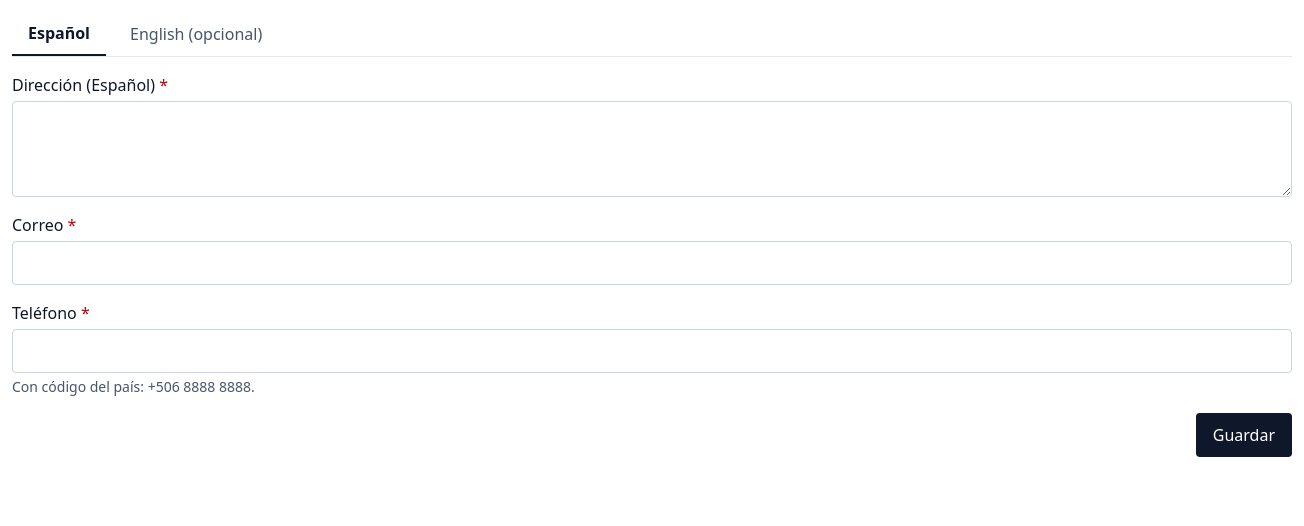
Test: ContactForm · contacto (FR-007) › muestra los errores de correo y teléfono junto al campo y no guarda (FR-015)
Step 1. Type "San José" into the text box labelled "Dirección (Español) *" → (652, 149), box x1=12 y1=101 x2=1292 y2=197
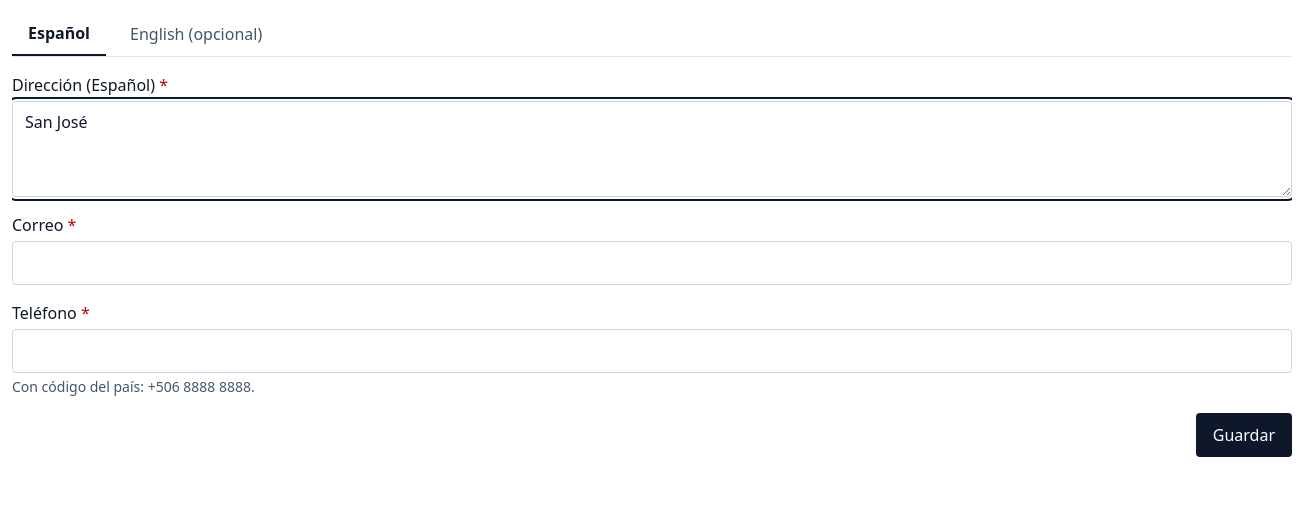
Step 2. Type "no-es-correo" into the field labelled "Correo *" → (652, 263), box x1=12 y1=241 x2=1292 y2=285
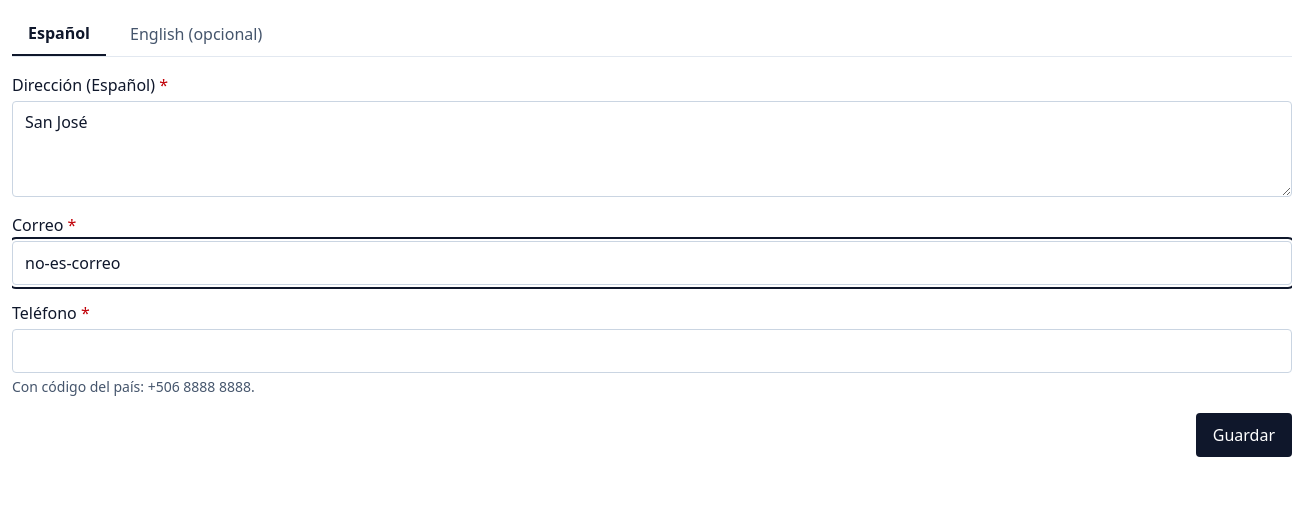
Step 3. Type "12" into the field labelled "Teléfono *" → (652, 351), box x1=12 y1=329 x2=1292 y2=373
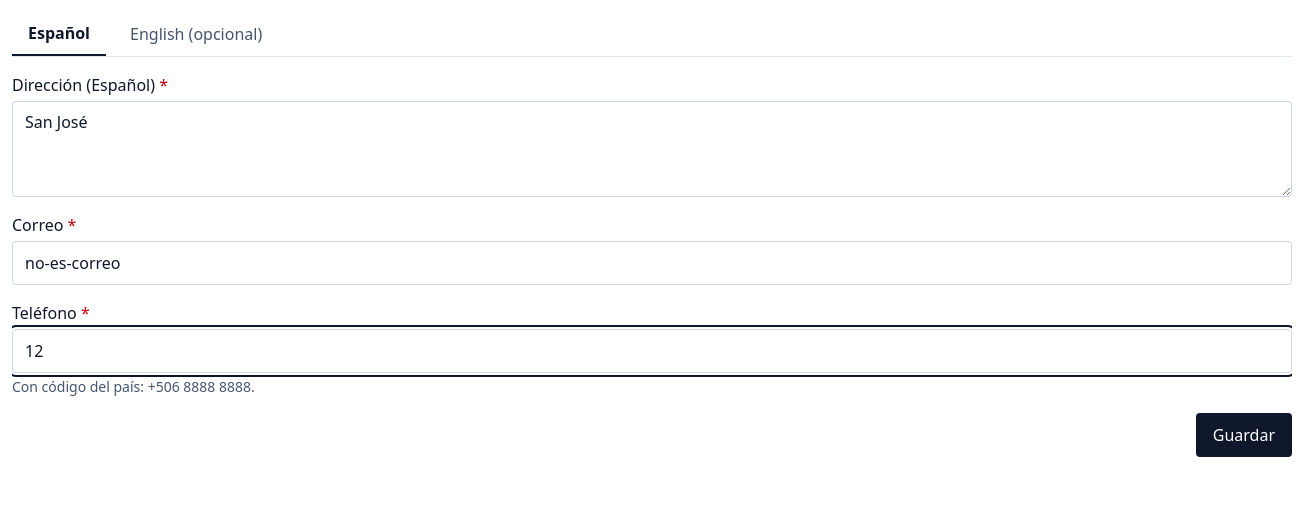
Step 4. Click the button "Guardar" → (1244, 435), box x1=1196 y1=413 x2=1292 y2=457
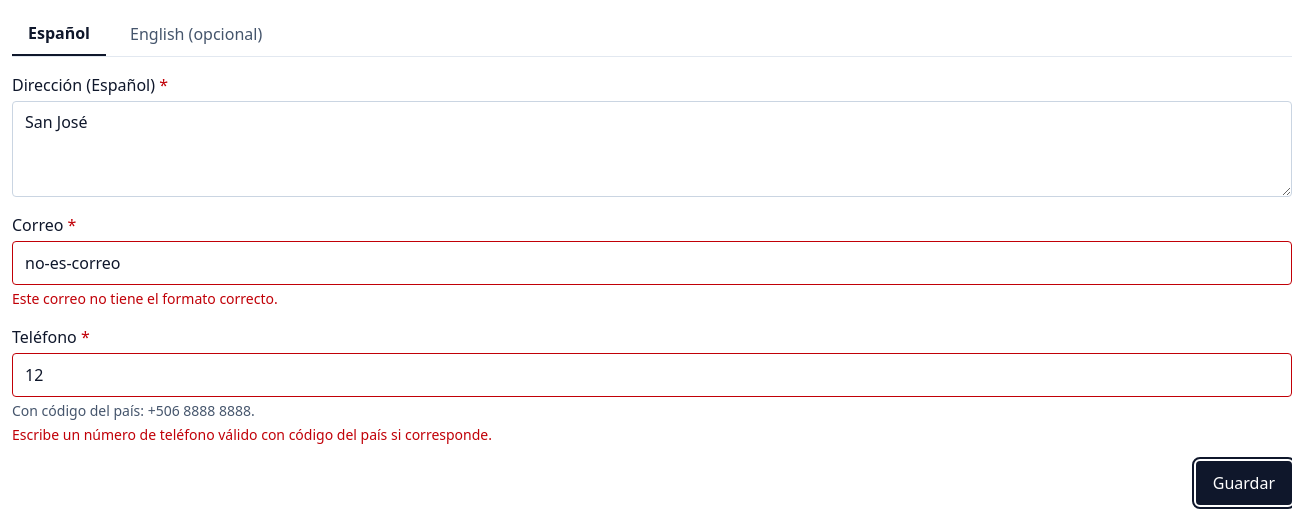
expect the text "Este correo no tiene el formato correcto." is shown: met, box x1=12 y1=289 x2=278 y2=308
expect the text "Escribe un número de teléfono válido con código del país si corresponde." is shown: met, box x1=12 y1=425 x2=492 y2=444
